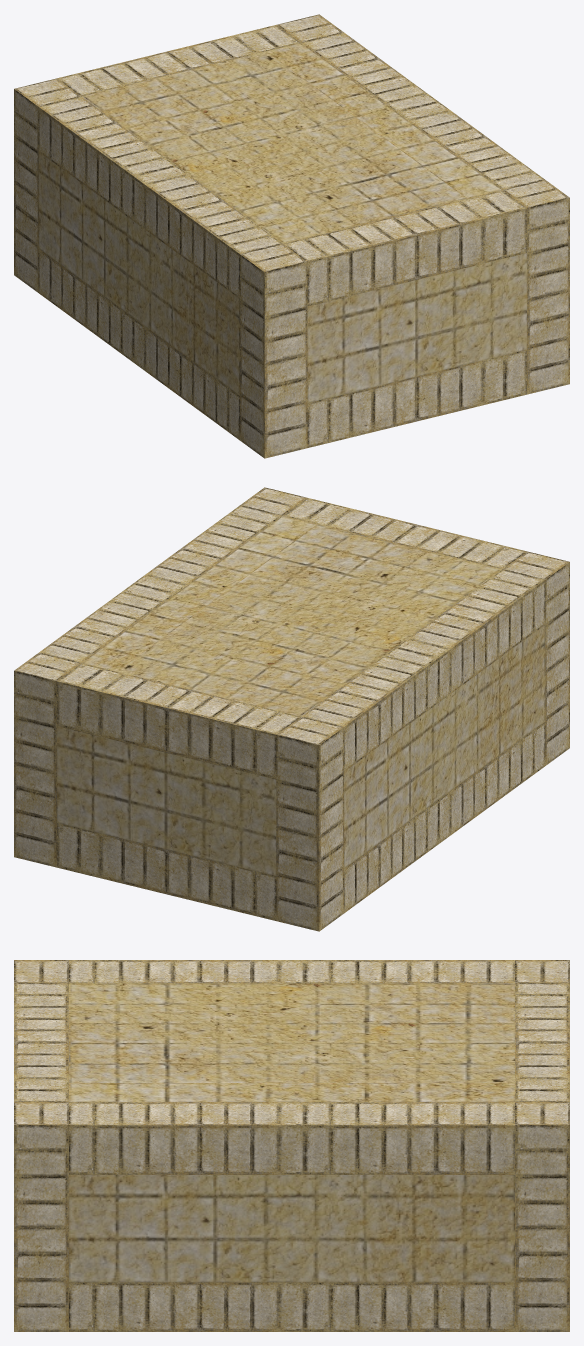
File: tutorial_structure_jumpingbox_lrg.dae
3 views of the same model, one above another, from view 1: azimuth 30°, elevation 25°; view 2: azimuth 150°, elevation 25°; view 3: azimuth 270°, elevation 25° (orthographic). The views are drawn at different scales.
Parts seen in each view (by area): view 1: tutorial_structure_jumpingbox_lrg; view 2: tutorial_structure_jumpingbox_lrg; view 3: tutorial_structure_jumpingbox_lrg.
Part boxes in pixels (x1,y1,x2,y2): tutorial_structure_jumpingbox_lrg: [14, 14, 569, 458]; tutorial_structure_jumpingbox_lrg: [14, 487, 569, 931]; tutorial_structure_jumpingbox_lrg: [14, 960, 569, 1331].
Size of the model in its own units: 5.29 by 7.52 by 3.08.
Materials: 2 (2 with a texture image).
